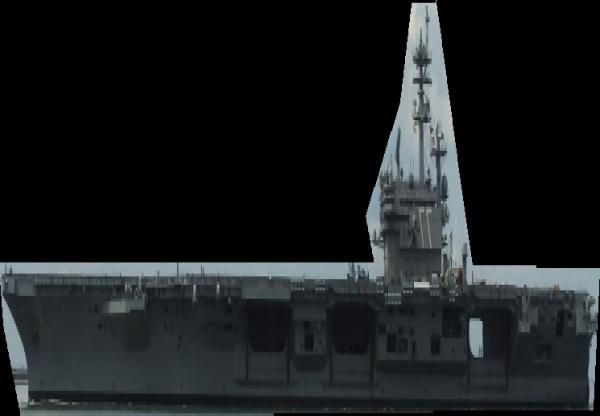Aircraft Carrier: (0, 0, 600, 416)
